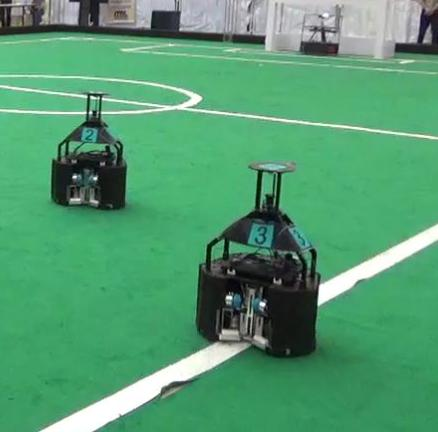robot: (194, 158, 319, 357), (48, 88, 129, 211)
